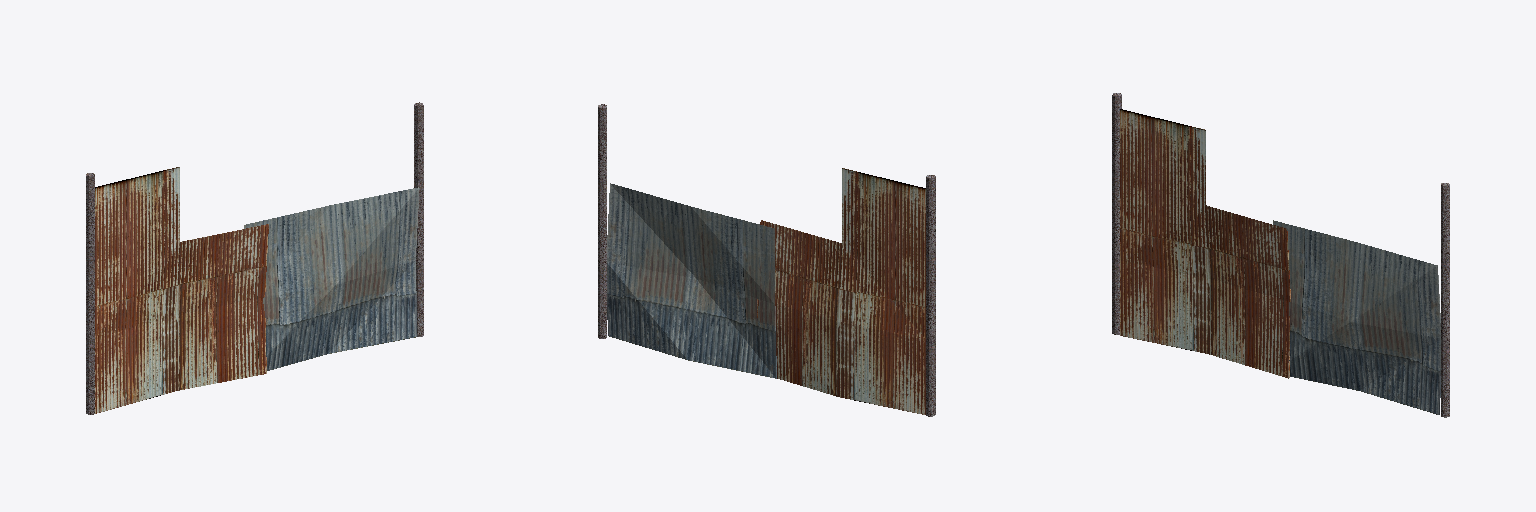
3 renders of one model, left to right at view 1: azimuth 30°, elevation 25°; view 2: azimuth 150°, elevation 25°; view 3: azimuth 330°, elevation 25°, orthographic.
Visible parts, largest first — view 1: rust1, rust4, metal1; view 2: rust1, rust4, metal1; view 3: rust1, rust4, metal1.
Part boxes in pixels (left/top/right/bottom): rust1: left=95, top=167, right=268, bottom=413; rust4: left=244, top=187, right=419, bottom=370; metal1: left=86, top=102, right=423, bottom=414; rust1: left=757, top=168, right=925, bottom=414; rust4: left=607, top=183, right=776, bottom=378; metal1: left=598, top=104, right=935, bottom=416; rust1: left=1120, top=109, right=1290, bottom=378; rust4: left=1273, top=220, right=1440, bottom=414; metal1: left=1112, top=93, right=1449, bottom=417.
Bounding box in the file's own units: 4.04 × 2.76 × 0.1854.
3 materials, 3 textured.